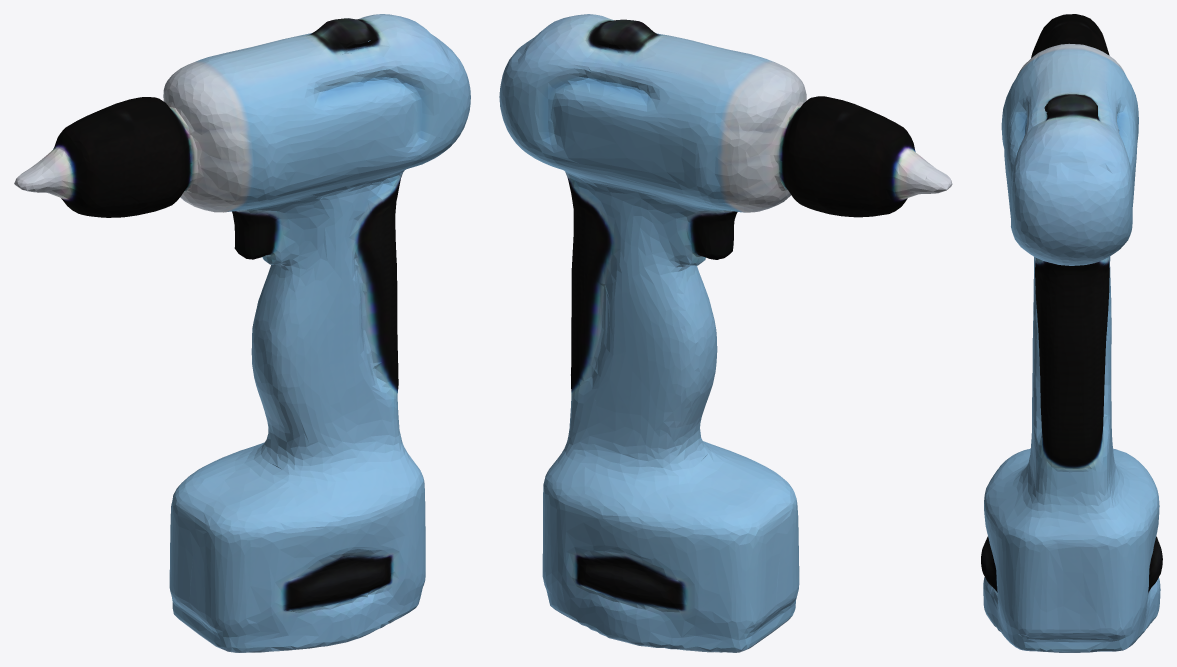
3 renders of one model, left to right at view 1: azimuth 30°, elevation 25°; view 2: azimuth 150°, elevation 25°; view 3: azimuth 270°, elevation 25°, orthographic. The views are drawn at different scales.
Visible parts, largest first — view 1: Mesh_0; view 2: Mesh_0; view 3: Mesh_0.
Boxes of the visible parts, x1=… form: Mesh_0: x1=14, y1=14, x2=470, y2=652; Mesh_0: x1=499, y1=14, x2=952, y2=652; Mesh_0: x1=981, y1=14, x2=1162, y2=652.
Bounding box in the file's own units: 5.52 × 6.93 × 2.13.
Materials: 1 (1 with a texture image).
